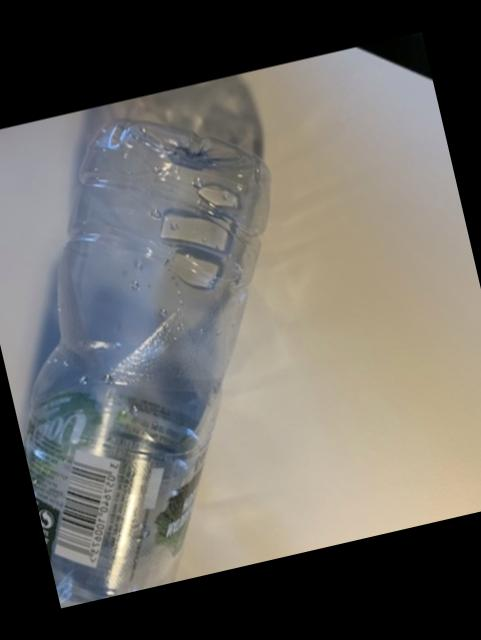plastic: (22, 75, 264, 608)
